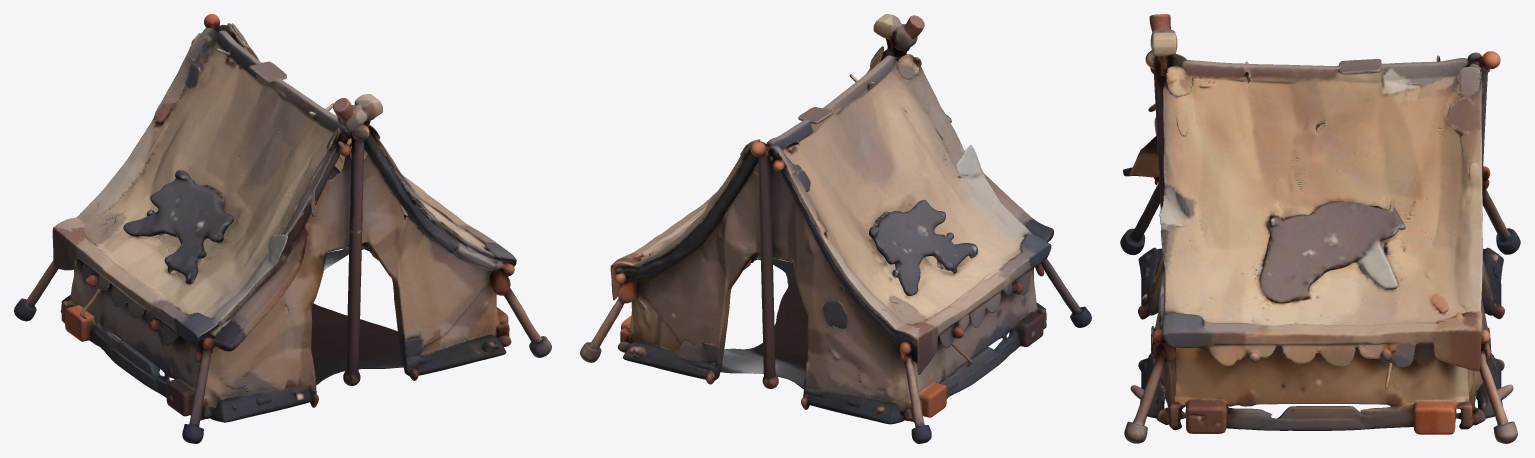
The model's file is tent.glb.
The picture shows the model from 3 angles, left to right: view 1: azimuth 30°, elevation 25°; view 2: azimuth 150°, elevation 25°; view 3: azimuth 270°, elevation 25°; orthographic projection. The views are drawn at different scales.
Parts seen in each view (by area): view 1: tripo_node_aec050ad-dd53-4819-89eb-ab09f0681dac; view 2: tripo_node_aec050ad-dd53-4819-89eb-ab09f0681dac; view 3: tripo_node_aec050ad-dd53-4819-89eb-ab09f0681dac.
Boxes of the visible parts, left/top/right/bottom form: tripo_node_aec050ad-dd53-4819-89eb-ab09f0681dac: left=14, top=14, right=551, bottom=443; tripo_node_aec050ad-dd53-4819-89eb-ab09f0681dac: left=580, top=14, right=1091, bottom=443; tripo_node_aec050ad-dd53-4819-89eb-ab09f0681dac: left=1120, top=14, right=1520, bottom=443.
Size of the model in its own units: 1 by 0.7661 by 0.8424.
Materials: 1 (1 with a texture image).
